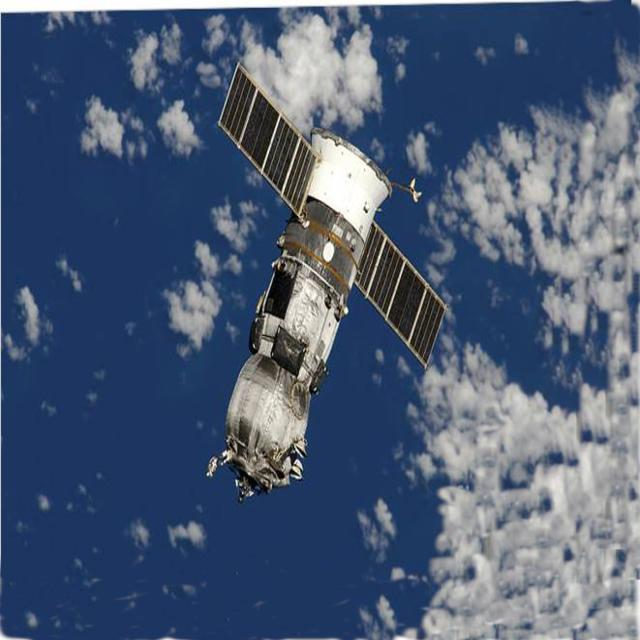sat: (202, 60, 452, 498)
